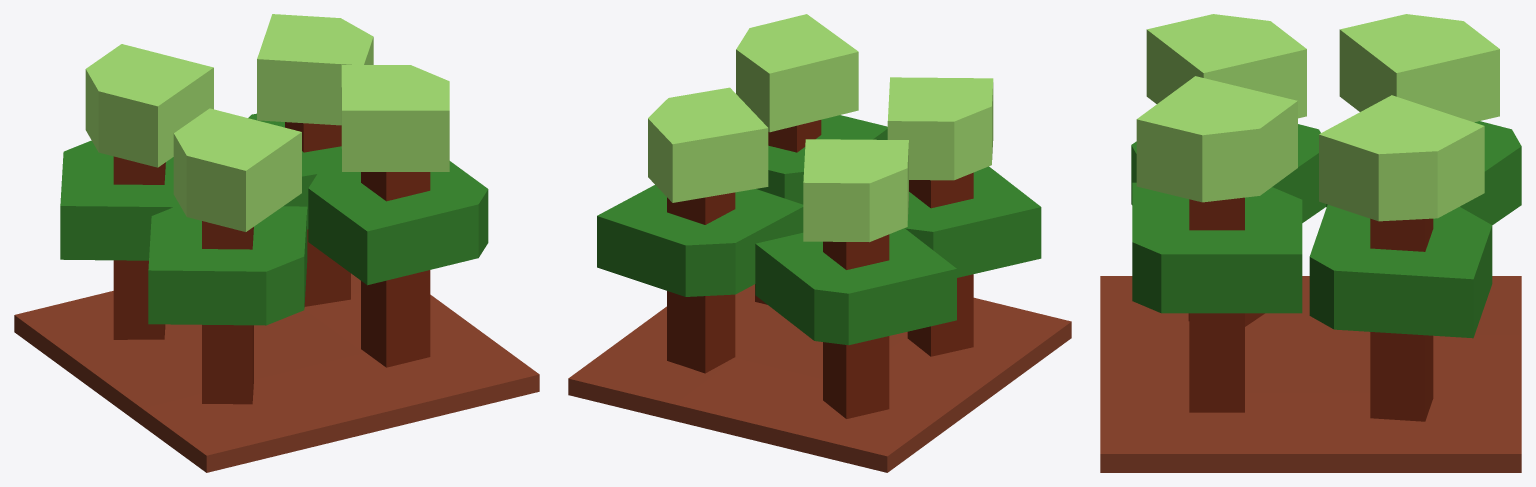
3 renders of one model, left to right at view 1: azimuth 30°, elevation 25°; view 2: azimuth 150°, elevation 25°; view 3: azimuth 270°, elevation 25°, orthographic. The views are drawn at different scales.
Visible parts, largest first — view 1: 立方体.003; view 2: 立方体.003; view 3: 立方体.003.
Part boxes in pixels (left/top/right/bottom): 立方体.003: left=14, top=14, right=539, bottom=472; 立方体.003: left=568, top=14, right=1071, bottom=472; 立方体.003: left=1100, top=14, right=1521, bottom=472.
Bounding box in the file's own units: 208 × 165 × 200.
